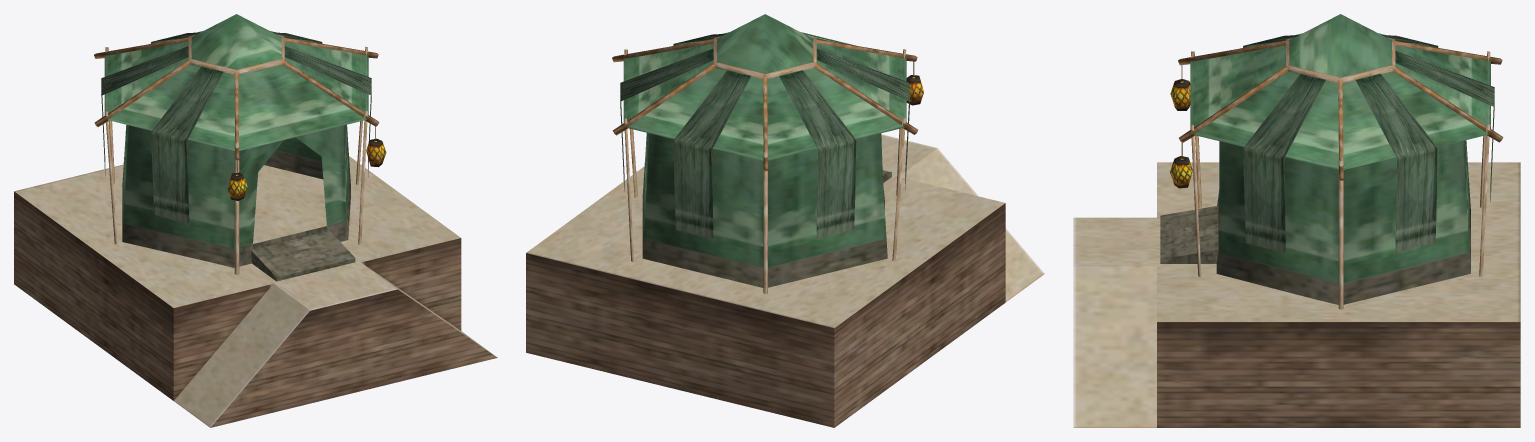
The model's file is ply_nboo_merchant_tent_s01_r0_mesh_l2.fbx.
3 renders of one model, left to right at view 1: azimuth 30°, elevation 25°; view 2: azimuth 150°, elevation 25°; view 3: azimuth 270°, elevation 25°, orthographic. The views are drawn at different scales.
Visible parts, largest first — view 1: mesh_node; view 2: mesh_node; view 3: mesh_node.
Boxes of the visible parts, x1,y1,x2,y2 form: mesh_node: [14, 14, 497, 427]; mesh_node: [526, 14, 1044, 427]; mesh_node: [1073, 14, 1520, 427].
Size of the model in its own units: 9.05 by 8.81 by 10.7.
